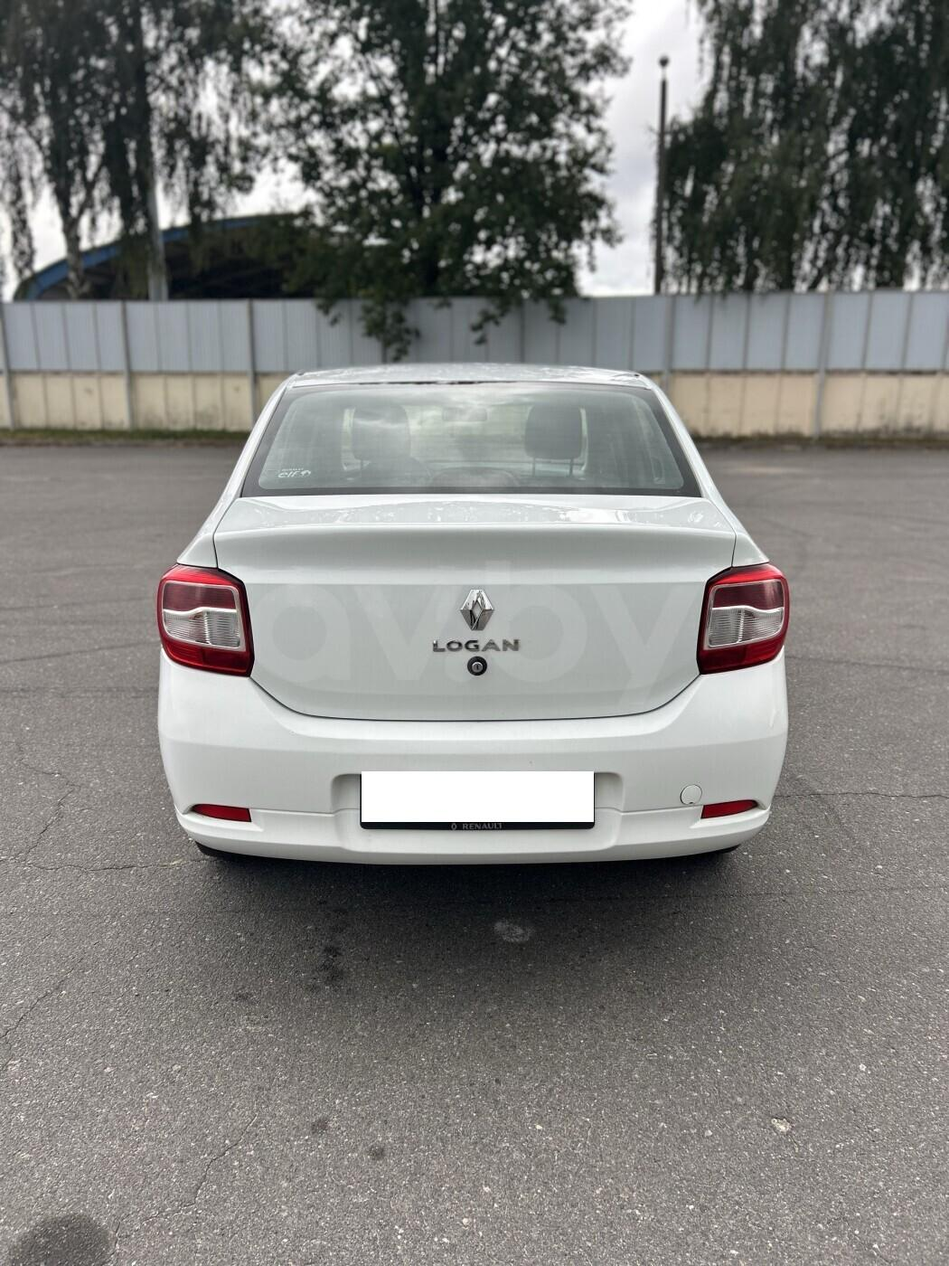Logan_2018: (154, 358, 815, 892)
